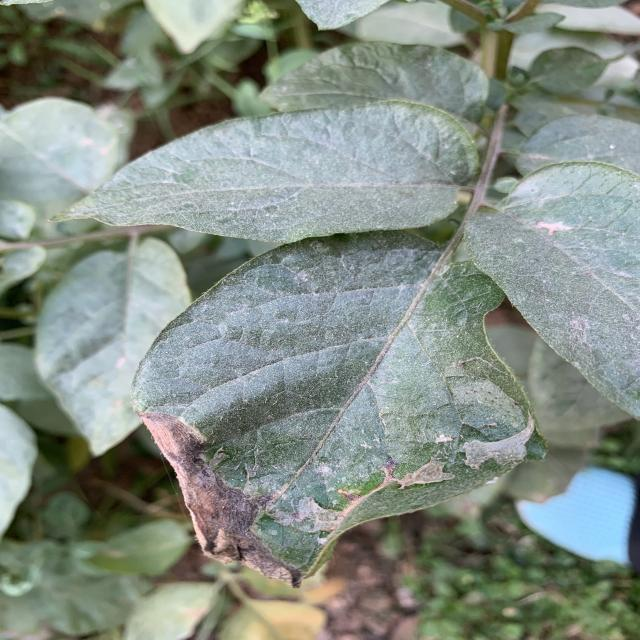lateblight: (138, 411, 303, 585), (268, 456, 398, 532), (397, 422, 538, 490)
